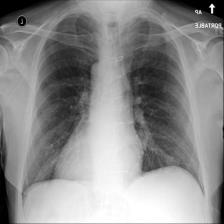normal: (19, 7, 209, 210)
